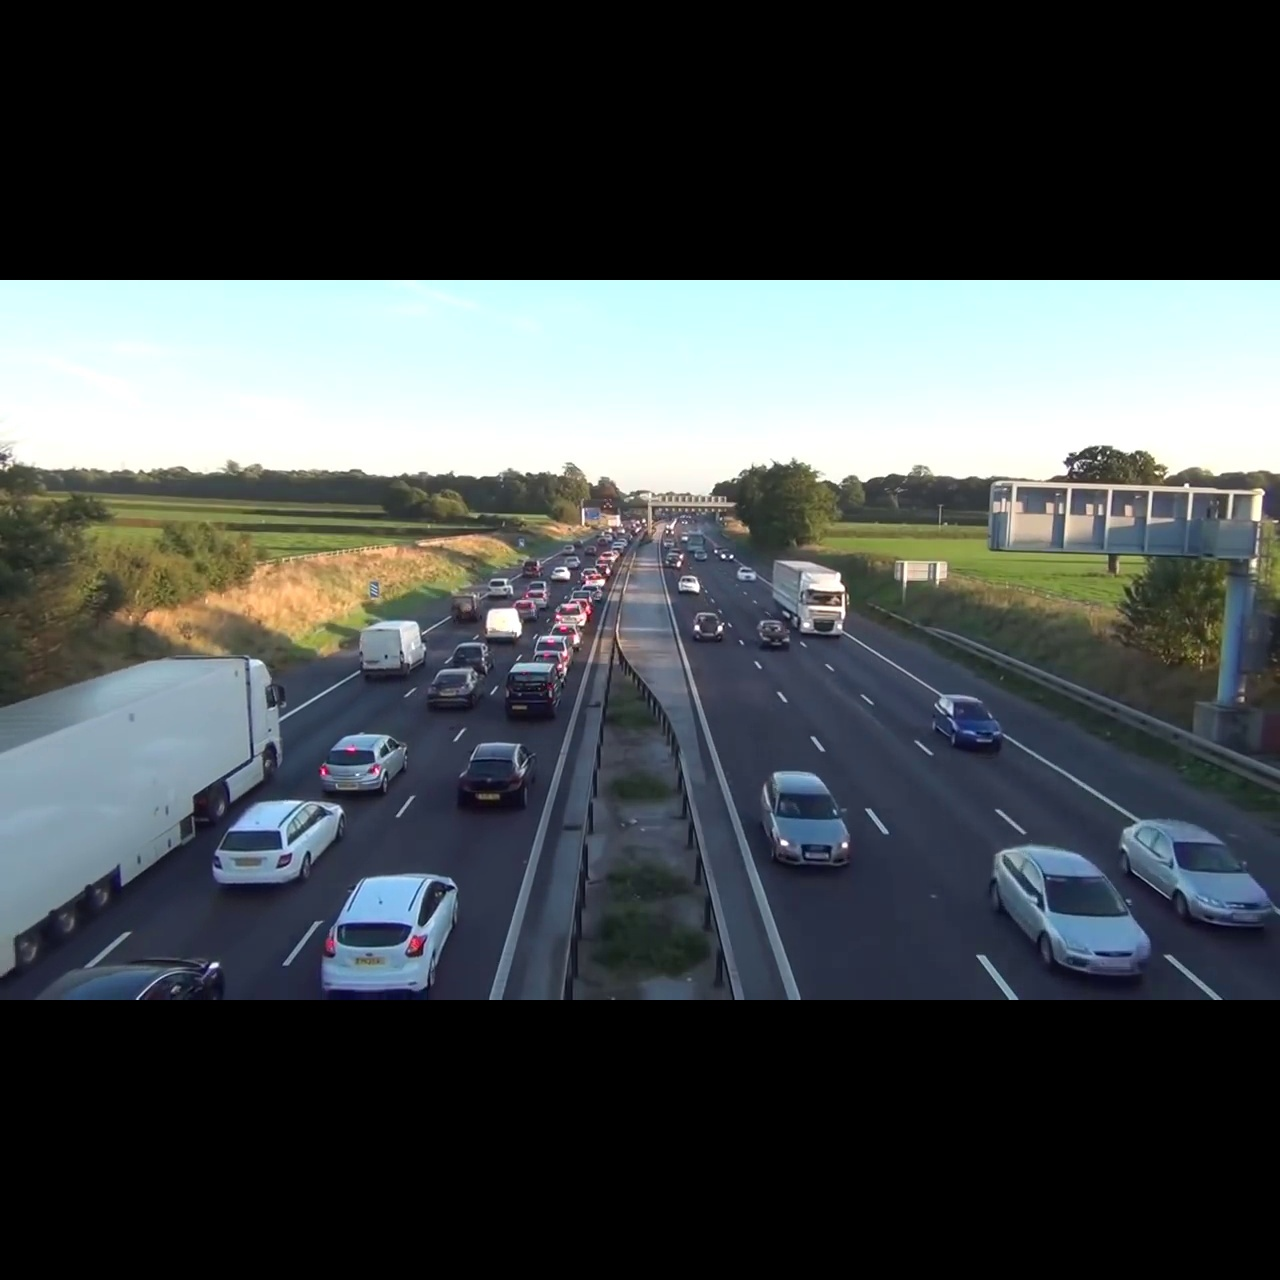vehicle: (1, 651, 287, 975), (983, 842, 1155, 983), (316, 866, 467, 1000), (1118, 816, 1278, 937), (210, 796, 349, 891), (758, 767, 855, 873), (771, 559, 850, 641), (454, 742, 540, 813), (318, 730, 408, 798), (927, 692, 1005, 753), (358, 618, 430, 681), (506, 665, 565, 720), (427, 666, 486, 713), (485, 610, 524, 644), (753, 618, 791, 651), (690, 611, 727, 645), (451, 641, 496, 668), (451, 592, 484, 624)
